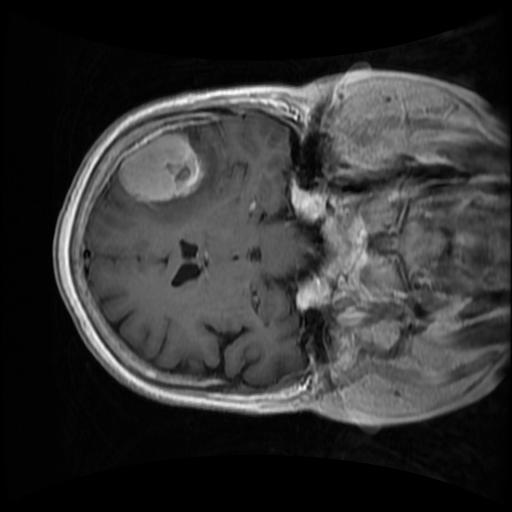meningioma: (116, 135, 201, 201)
